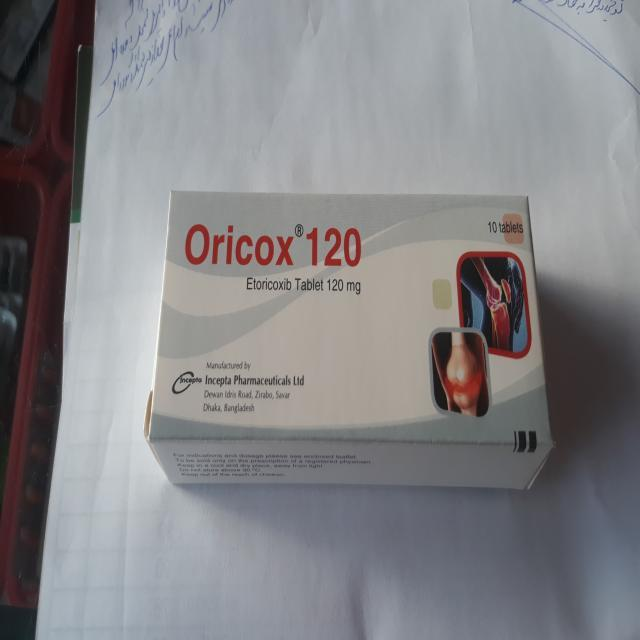drug-name: (184, 216, 368, 272)
